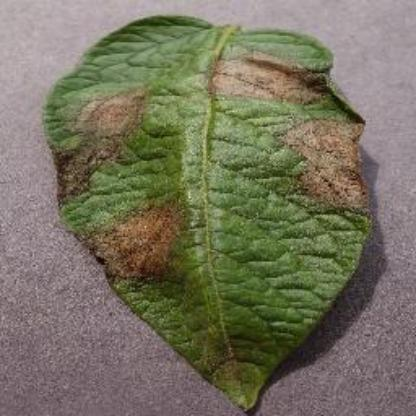Late-Blight: (43, 12, 375, 414)
